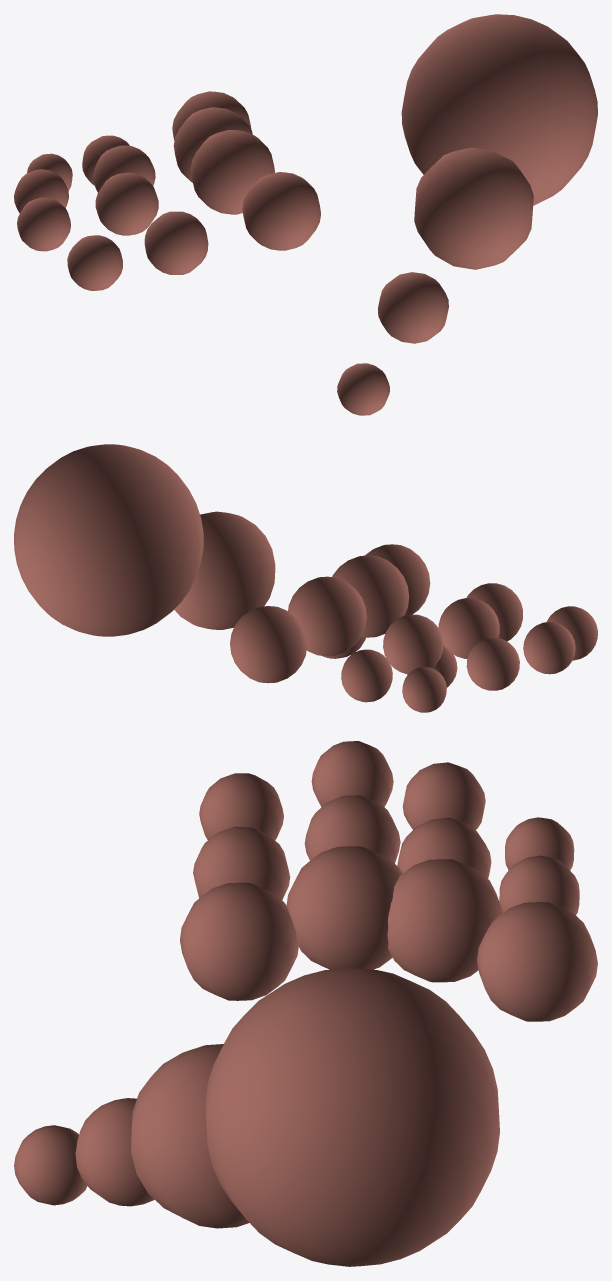
Rendered from leftHandJoint.glb.
The picture shows the model from 3 angles, top to bottom: view 1: azimuth 30°, elevation 25°; view 2: azimuth 150°, elevation 25°; view 3: azimuth 270°, elevation 25°; orthographic projection. The views are drawn at different scales.
Parts seen in each view (by area): view 1: Beta_Joints.001; view 2: Beta_Joints.001; view 3: Beta_Joints.001.
Part boxes in pixels (x1,y1,x2,y2): Beta_Joints.001: (14, 14, 597, 415); Beta_Joints.001: (14, 444, 597, 712); Beta_Joints.001: (14, 741, 597, 1266).
Bounding box in the file's own units: 20 × 8.84 × 11.89.
